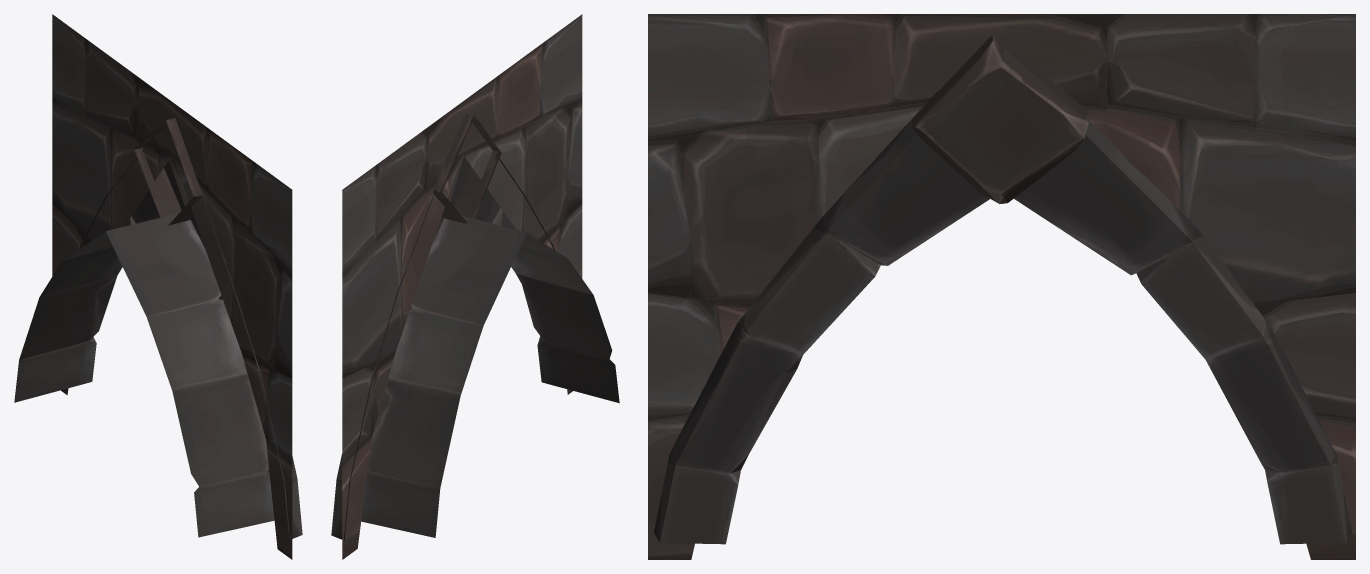
File: A_CA_GEN_WallPanel_04.fbx
The picture shows the model from 3 angles, left to right: view 1: azimuth 30°, elevation 25°; view 2: azimuth 150°, elevation 25°; view 3: azimuth 270°, elevation 25°; orthographic projection. The views are drawn at different scales.
Parts seen in each view (by area): view 1: A_CA_GEN_WallPanel_04; view 2: A_CA_GEN_WallPanel_04; view 3: A_CA_GEN_WallPanel_04.
Boxes of the visible parts, x1,y1,x2,y2 form: A_CA_GEN_WallPanel_04: [14, 14, 302, 559]; A_CA_GEN_WallPanel_04: [331, 14, 619, 559]; A_CA_GEN_WallPanel_04: [648, 14, 1355, 559].
Size of the model in its own units: 152 by 596 by 700.
1 material, 1 textured.
